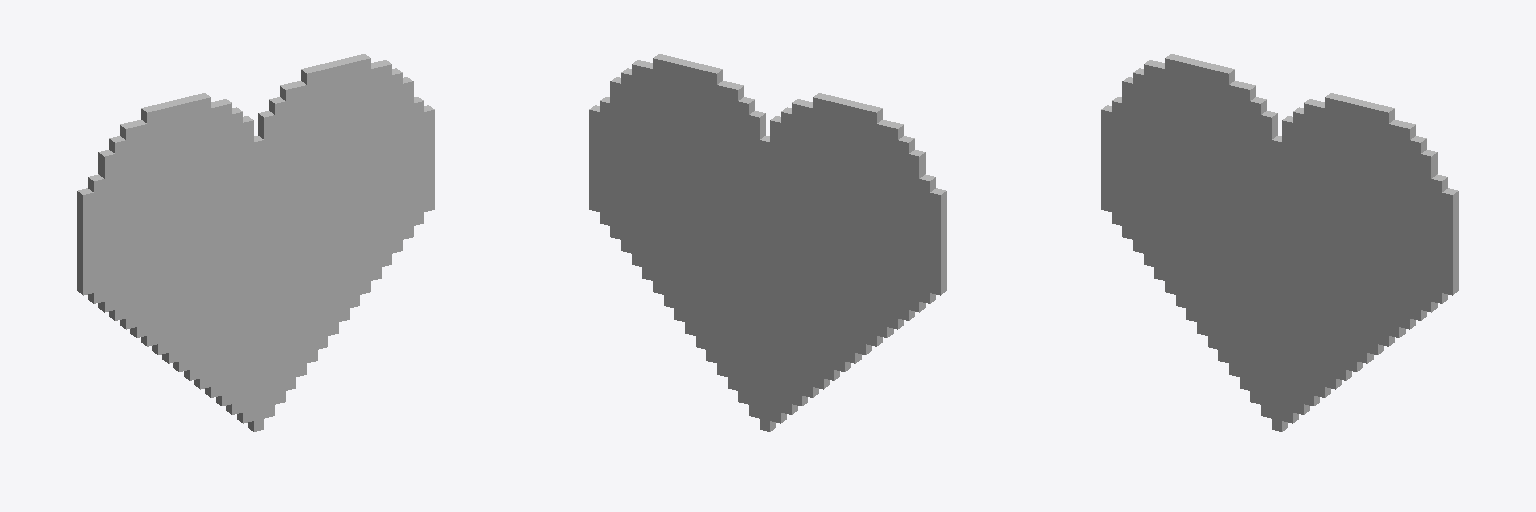
Rendered from heart.obj.
3 views of the same model, side by side, from view 1: azimuth 30°, elevation 25°; view 2: azimuth 150°, elevation 25°; view 3: azimuth 330°, elevation 25° (orthographic).
Visible parts, largest first — view 1: object 1; view 2: object 1; view 3: object 1.
Boxes of the visible parts, x1,y1,x2,y2 form: object 1: [77, 54, 434, 431]; object 1: [589, 54, 946, 431]; object 1: [1101, 54, 1458, 431].
Size of the model in its own units: 3.3 by 3.1 by 0.1.